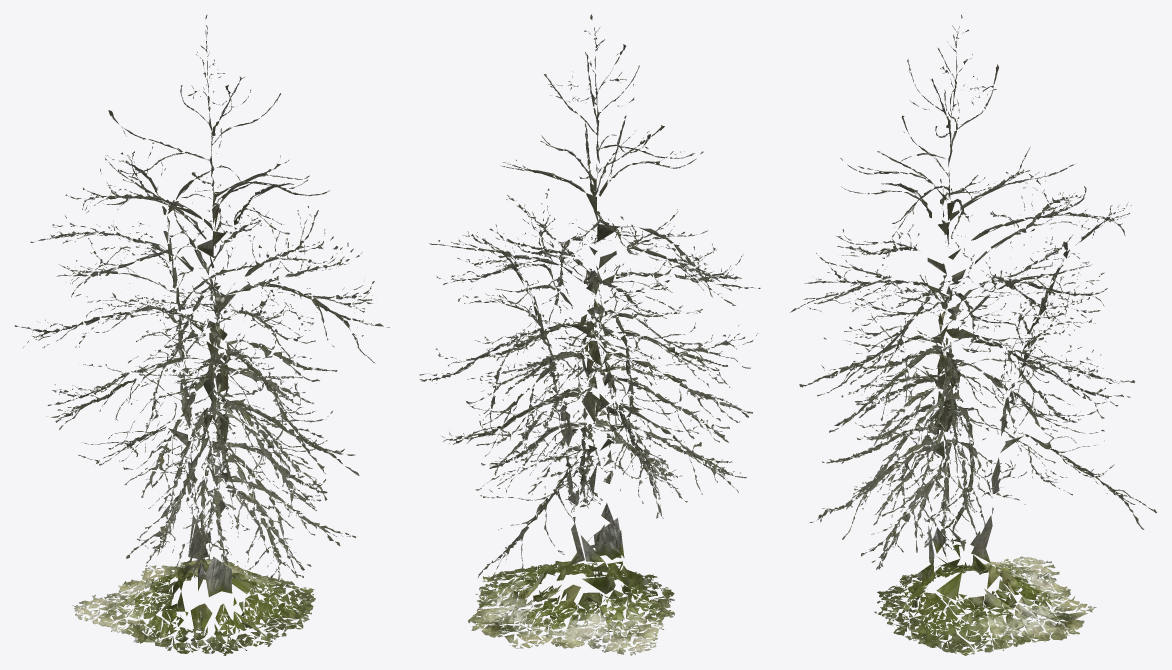
The model's file is lone-tree.glb.
3 renders of one model, left to right at view 1: azimuth 30°, elevation 25°; view 2: azimuth 150°, elevation 25°; view 3: azimuth 270°, elevation 25°, orthographic. The views are drawn at different scales.
Visible parts, largest first — view 1: Mesh_0; view 2: Mesh_0; view 3: Mesh_0.
Part boxes in pixels (left/top/right/bottom): Mesh_0: left=14, top=14, right=389, bottom=655; Mesh_0: left=419, top=14, right=760, bottom=655; Mesh_0: left=790, top=14, right=1156, bottom=655.
Size of the model in its own units: 2.97 by 6.04 by 3.38.
Materials: 1 (1 with a texture image).
